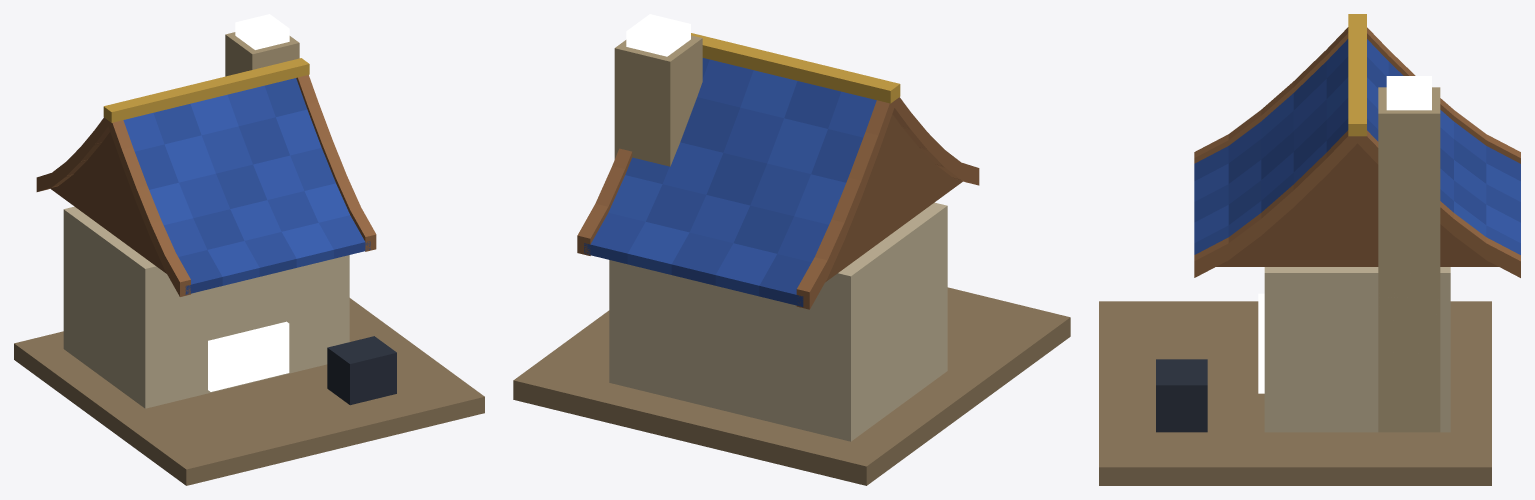
Rendered from workshop_t1.glb.
The picture shows the model from 3 angles, left to right: view 1: azimuth 30°, elevation 25°; view 2: azimuth 150°, elevation 25°; view 3: azimuth 270°, elevation 25°; orthographic projection. The views are drawn at different scales.
Visible parts, largest first — view 1: body, glow; view 2: body, glow; view 3: body, glow.
Part boxes in pixels (x1,y1,x2,y2): body: (14, 32, 484, 485); glow: (208, 14, 289, 391); body: (513, 33, 1070, 485); glow: (626, 14, 690, 56); body: (1099, 14, 1520, 485); glow: (1258, 76, 1431, 393).
Size of the model in its own units: 1.9 by 1.88 by 2.04.
